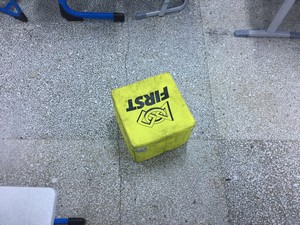cube: (112, 73, 194, 159)
